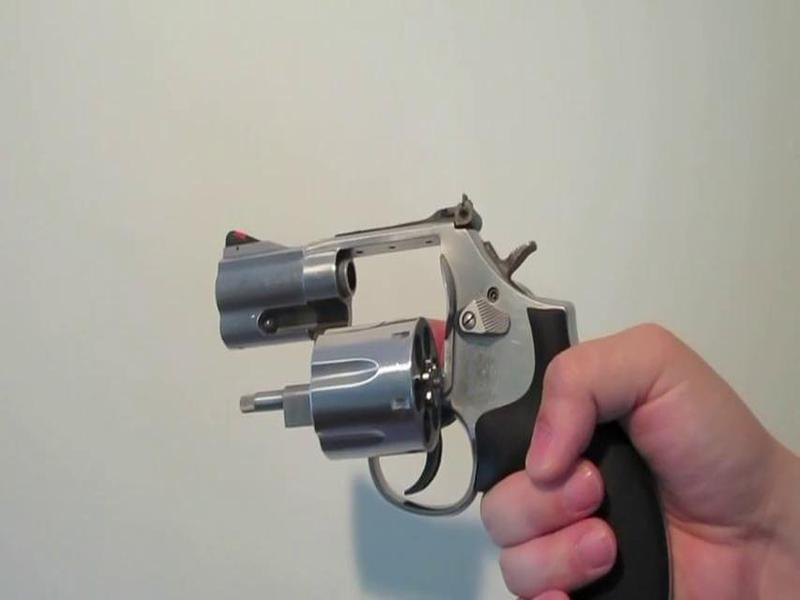Revolver: (199, 176, 727, 600)
